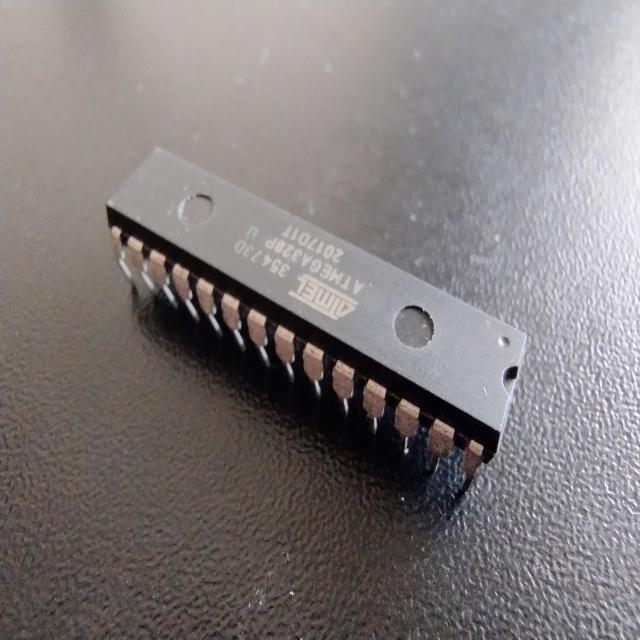atmega: (103, 142, 530, 513)
